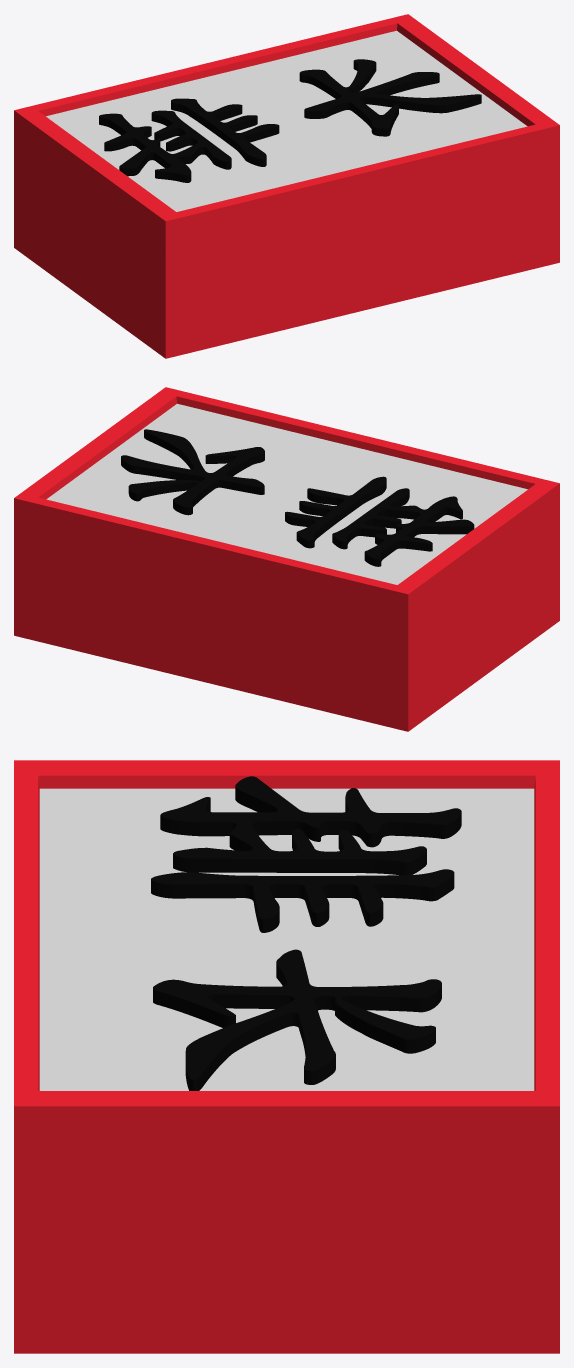
Rendered from 8_pai_zhang.fbx.
3 renders of one model, top to bottom at view 1: azimuth 30°, elevation 25°; view 2: azimuth 150°, elevation 25°; view 3: azimuth 270°, elevation 25°, orthographic. The views are drawn at different scales.
Parts seen in each view (by area): view 1: Cube, 文本; view 2: Cube, 文本; view 3: Cube, 文本.
Boxes of the visible parts, <box> form: Cube: <box>14,14,559,358</box>; 文本: <box>99,59,481,182</box>; Cube: <box>14,387,559,731</box>; 文本: <box>121,429,474,566</box>; Cube: <box>14,760,559,1353</box>; 文本: <box>151,776,461,1090</box>.
Size of the model in its own units: 240 by 80.47 by 160.
